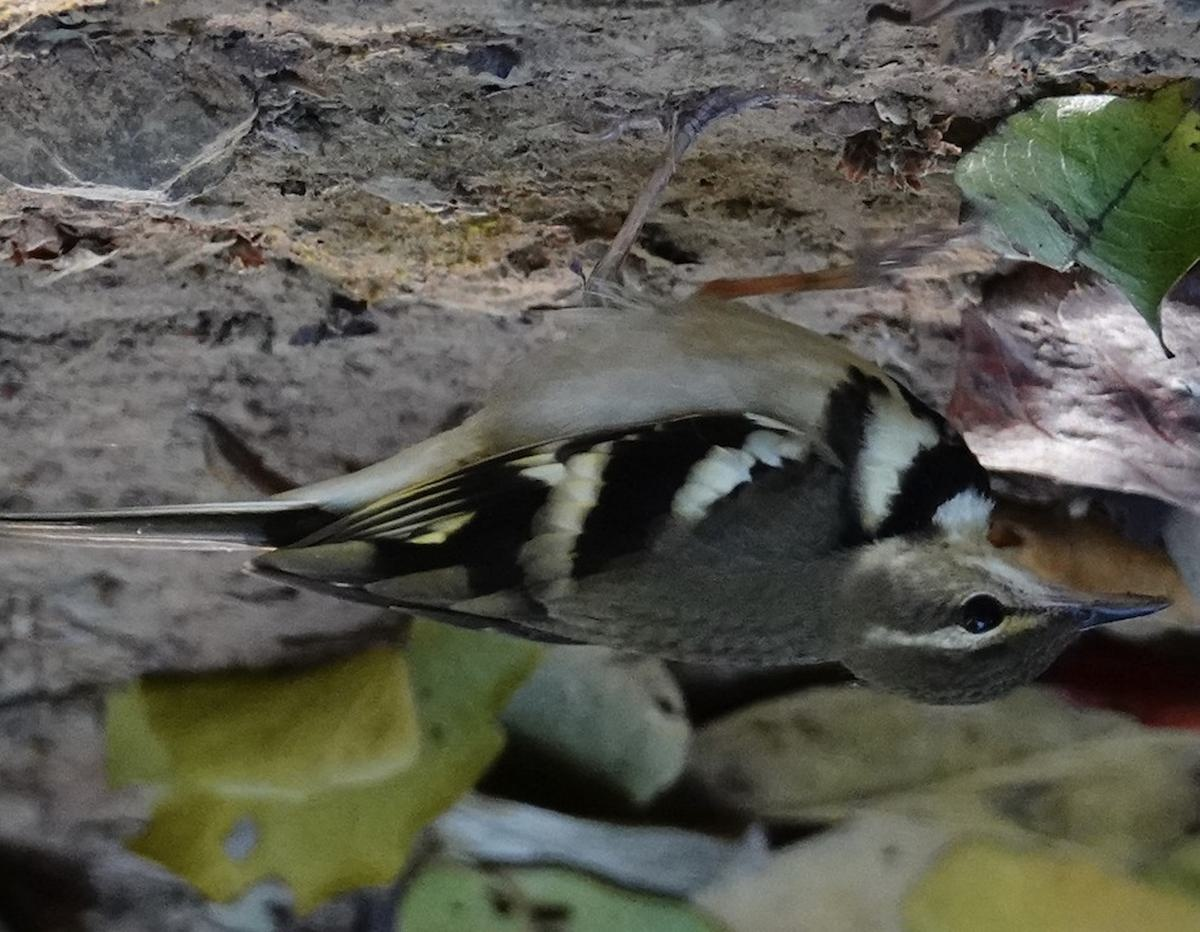wagtail: (111, 287, 1175, 734)
